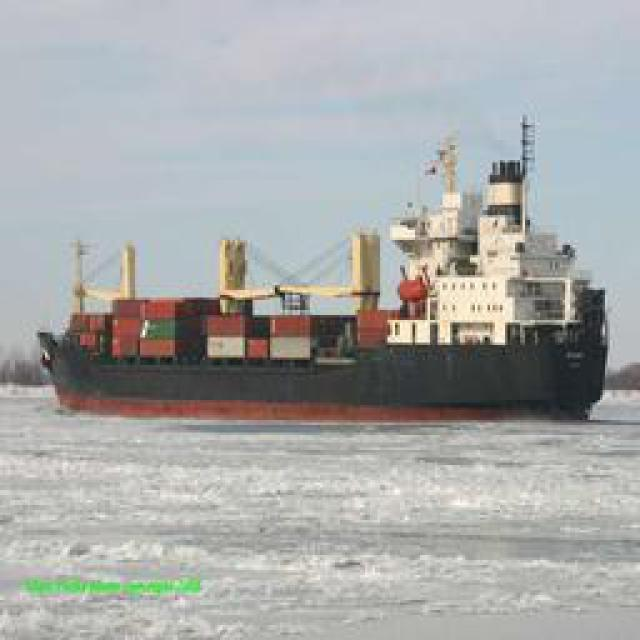Ship: (54, 120, 604, 420)
